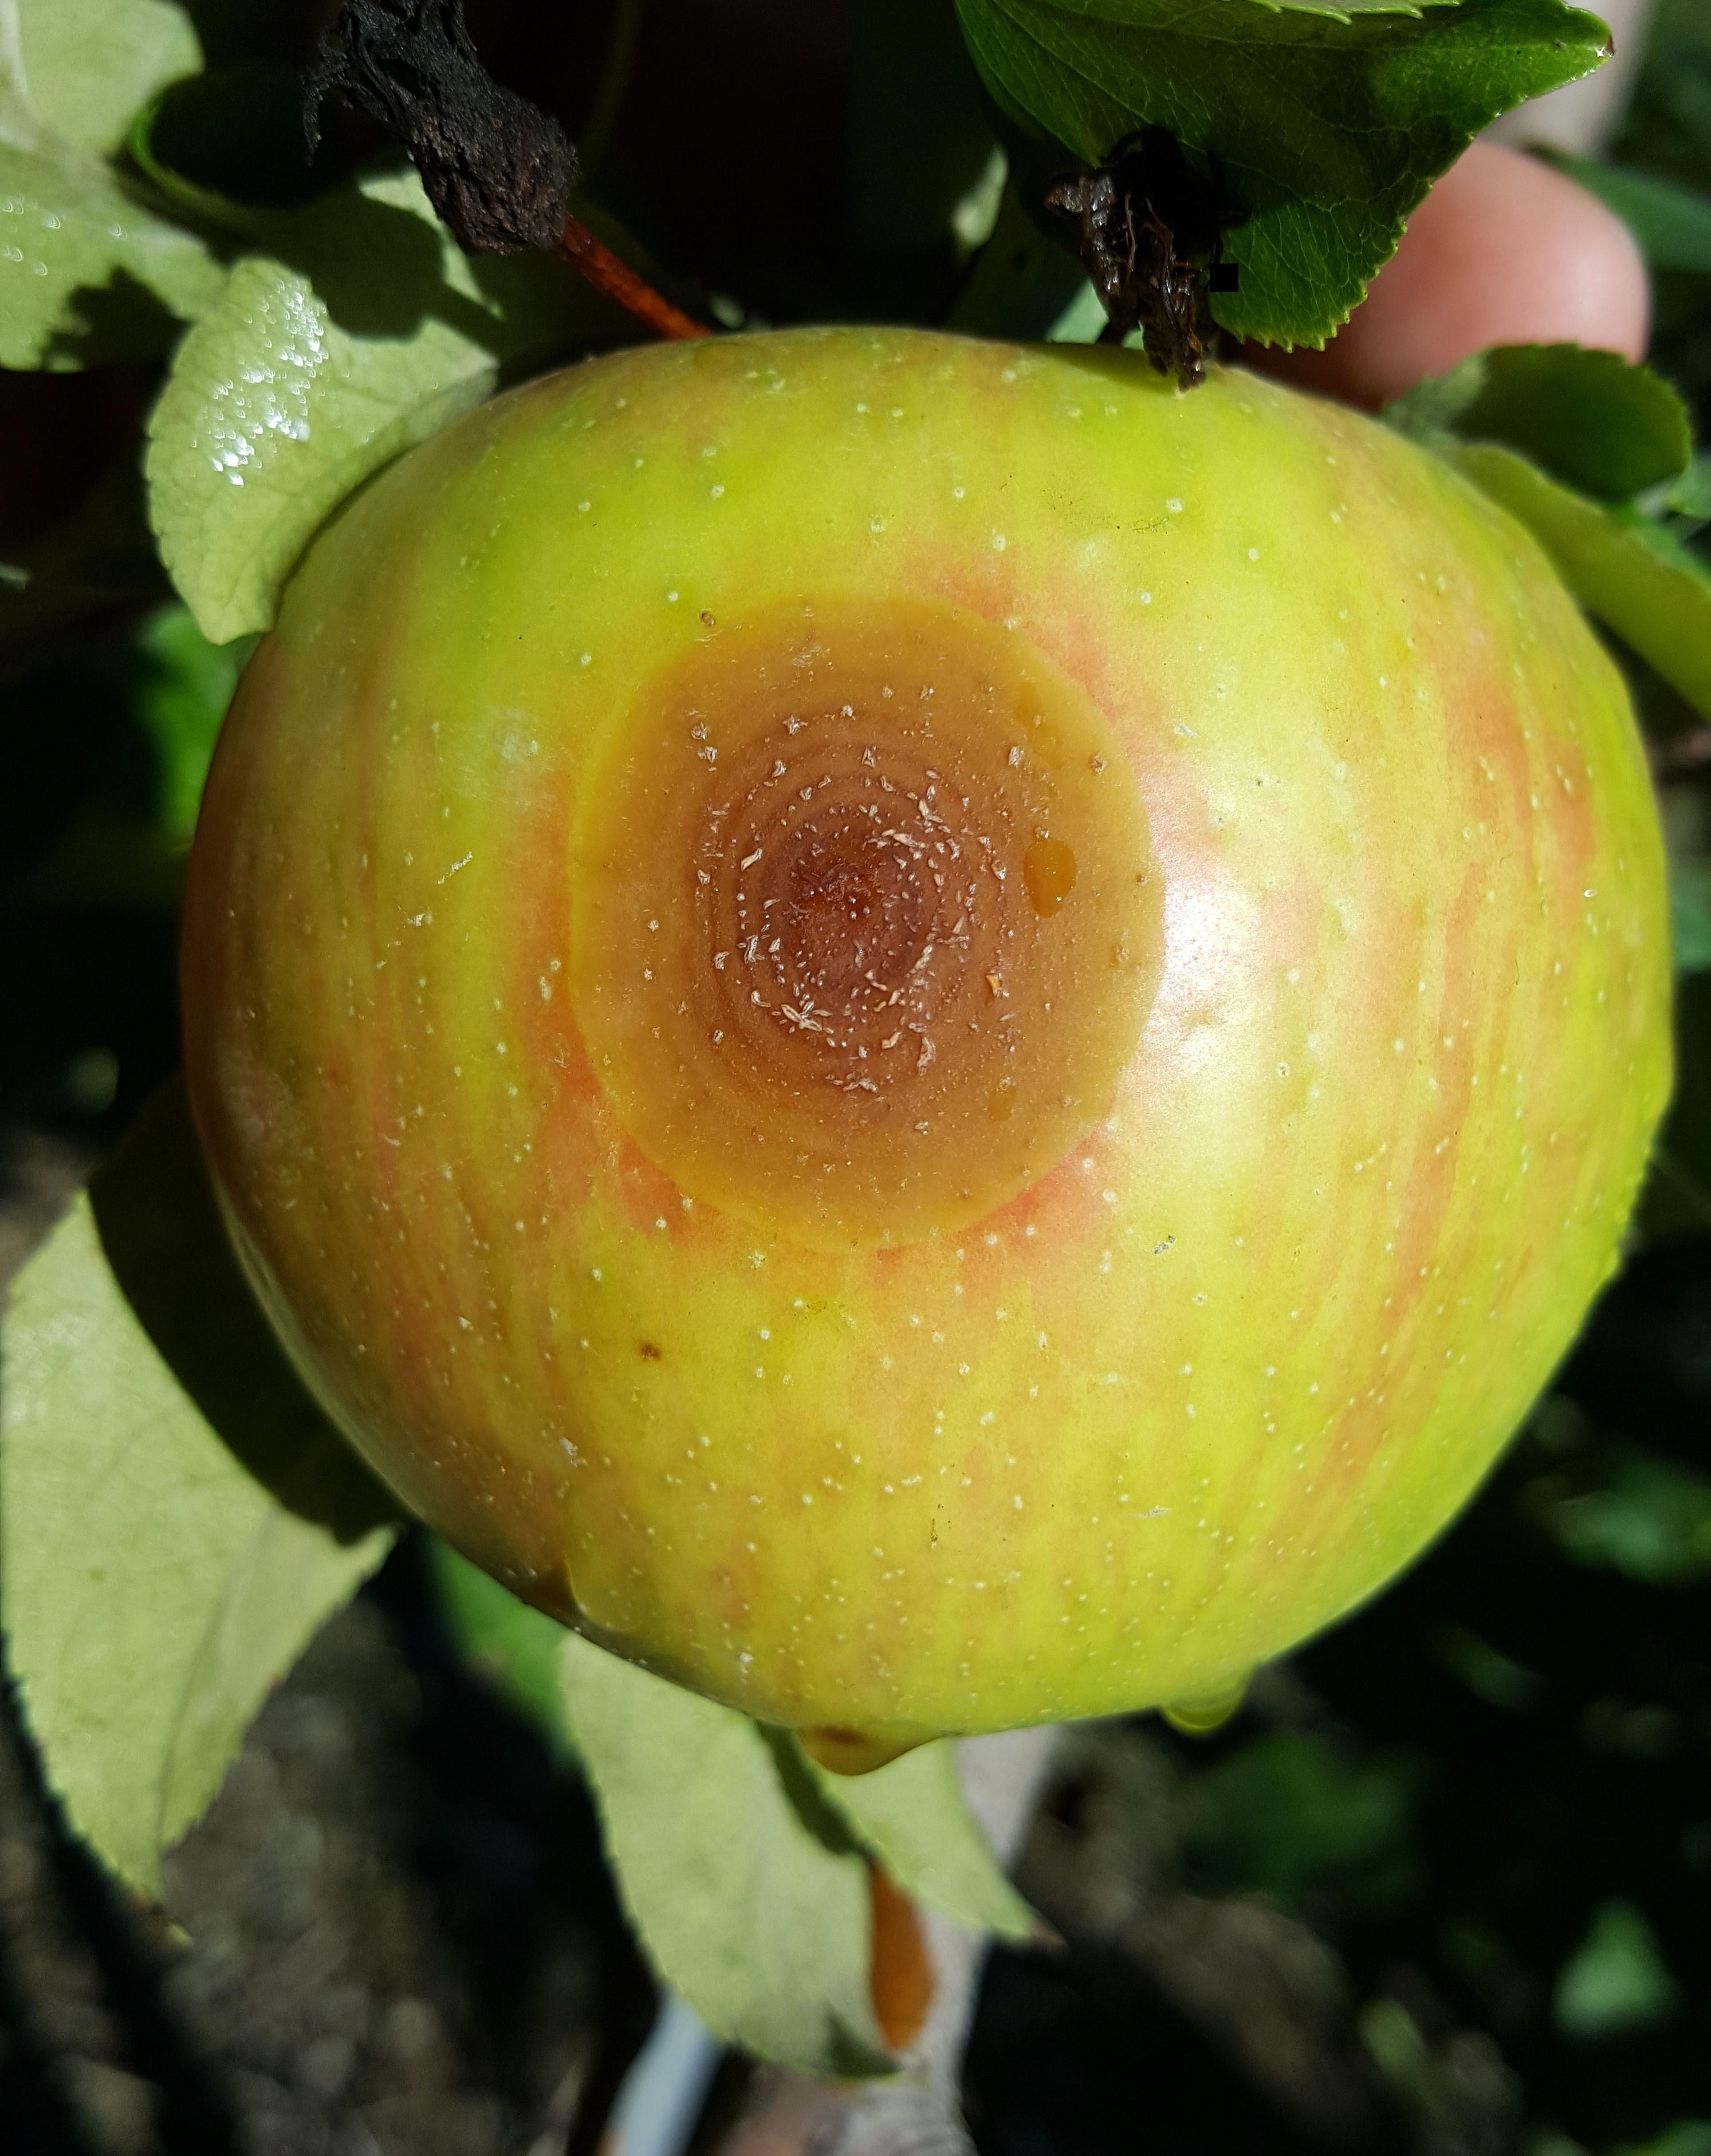rotten apple: (131, 306, 1699, 1734)
